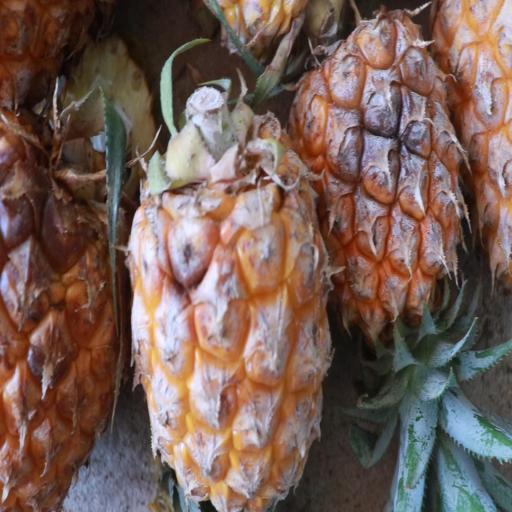Pineapple - v8 v1: (123, 121, 338, 512), (274, 2, 471, 387)
